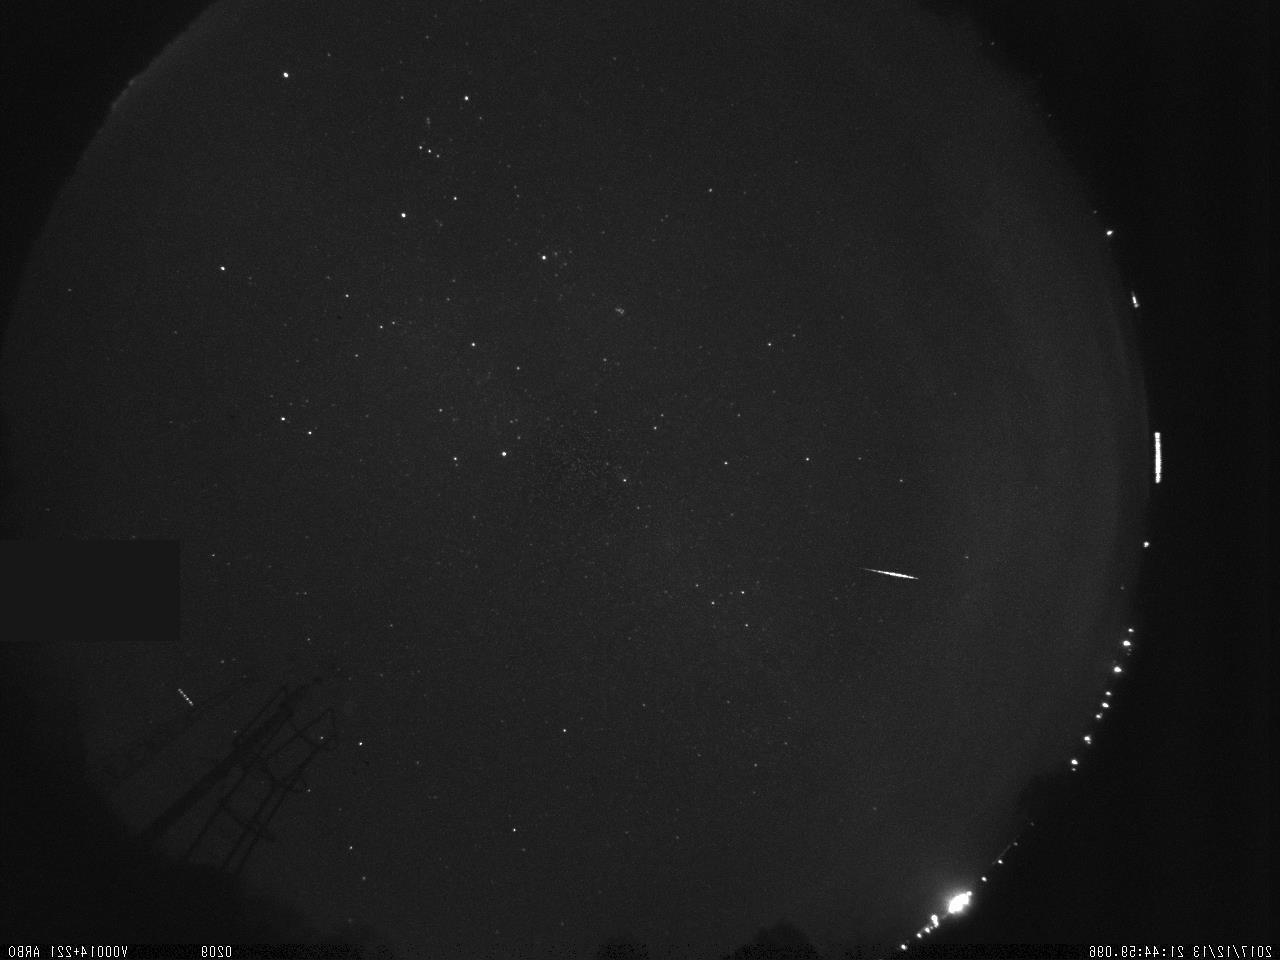meteor: (855, 561, 937, 601)
